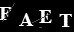A: (17, 12, 34, 28)
E: (37, 9, 53, 24)
F: (1, 6, 13, 21)
T: (57, 13, 73, 28)
